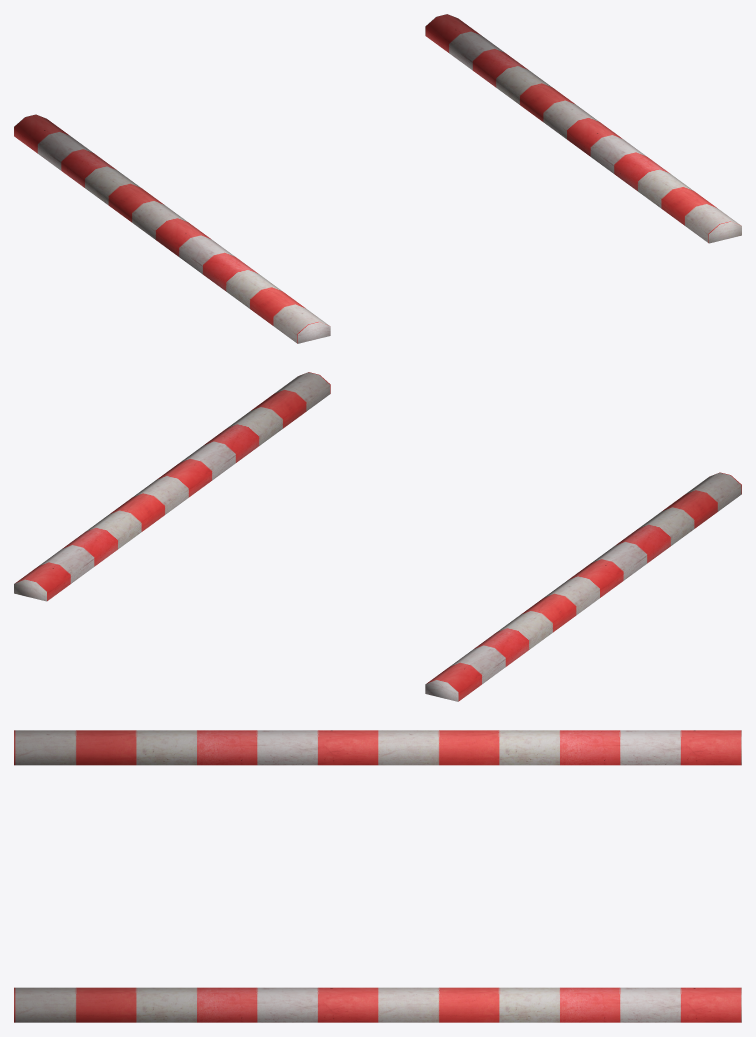
Rendered from curb_track_staright.fbx.
The picture shows the model from 3 angles, top to bottom: view 1: azimuth 30°, elevation 25°; view 2: azimuth 150°, elevation 25°; view 3: azimuth 270°, elevation 25°; orthographic projection. The views are drawn at different scales.
Parts seen in each view (by area): view 1: curb_track_straight; view 2: curb_track_straight; view 3: curb_track_straight.
Boxes of the visible parts, <box> form: curb_track_straight: <box>14,14,741,343</box>; curb_track_straight: <box>14,372,741,701</box>; curb_track_straight: <box>14,730,741,1022</box>.
Bounding box in the file's own units: 181 × 6.43 × 200.
